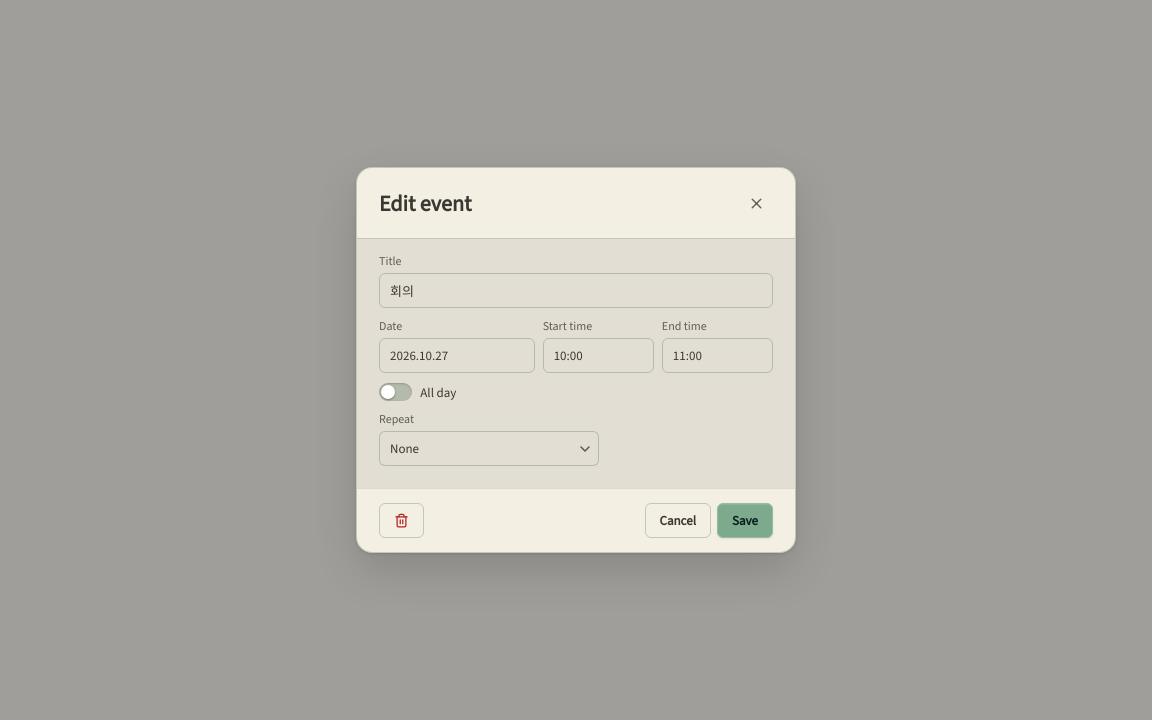
ChipEventModal › 종료 <= 시작이면 오류를 보이고 저장을 막는다
Replace the text in the field with test id "cal-event-end" with "09:00" at (717, 356), box [662,338,773,373]
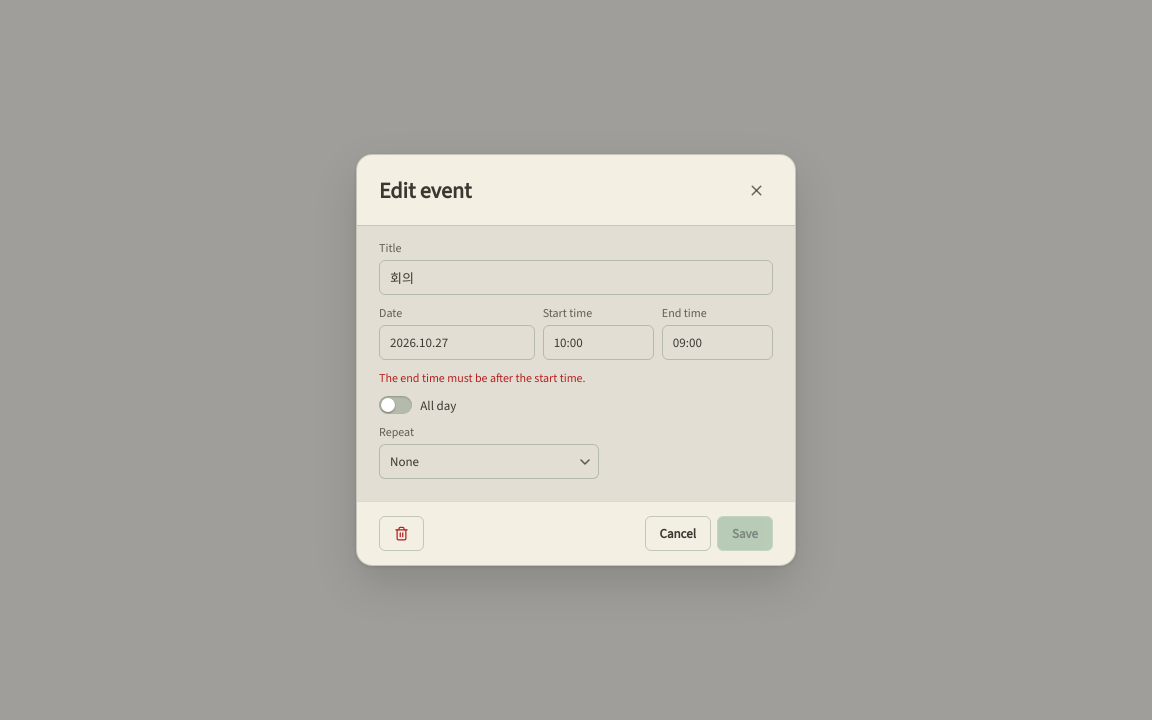
Check: the message "The end time must be after the start time." is shown, box [379,370,586,386]
Check: the button with test id "cal-event-save" is disabled, box [717,516,773,551]
